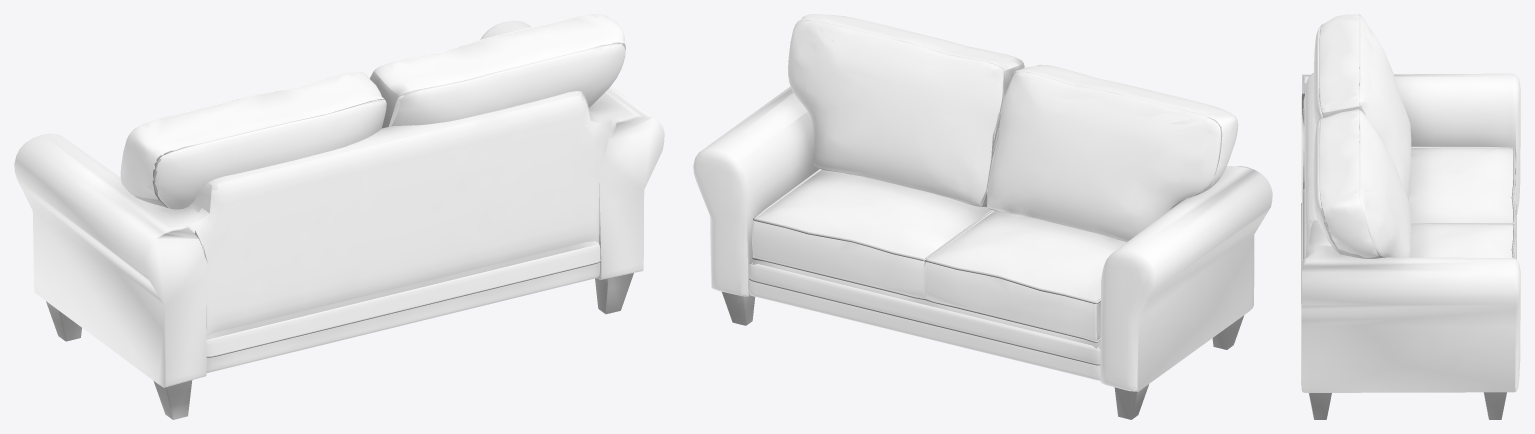
The model's file is Sofa 2.glb.
3 views of the same model, side by side, from view 1: azimuth 30°, elevation 25°; view 2: azimuth 150°, elevation 25°; view 3: azimuth 270°, elevation 25° (orthographic). The views are drawn at different scales.
Visible parts, largest first — view 1: Sofa2, Sofa2.001; view 2: Sofa2, Sofa2.001; view 3: Sofa2, Sofa2.001.
Boxes of the visible parts, x1=… form: Sofa2: x1=14, y1=14, x2=664, y2=387; Sofa2.001: x1=46, y1=273, x2=633, y2=419; Sofa2: x1=693, y1=14, x2=1272, y2=391; Sofa2.001: x1=722, y1=292, x2=1243, y2=419; Sofa2: x1=1301, y1=14, x2=1520, y2=392; Sofa2.001: x1=1308, y1=392, x2=1506, y2=419.
Bounding box in the file's own units: 1.66 × 0.8481 × 0.7432.
Materials: 1 (1 with a texture image).
